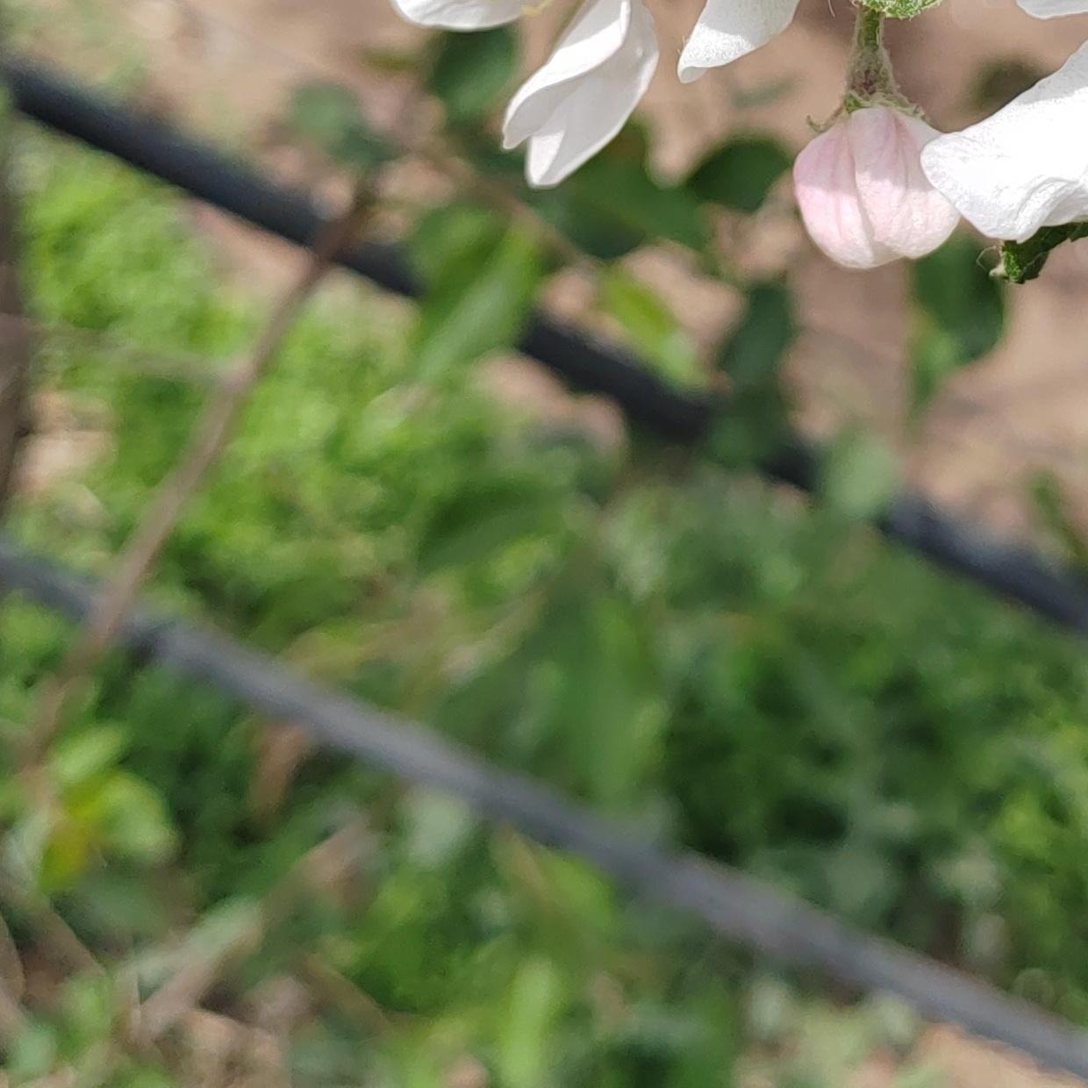apple_flower: (392, 0, 655, 183)
